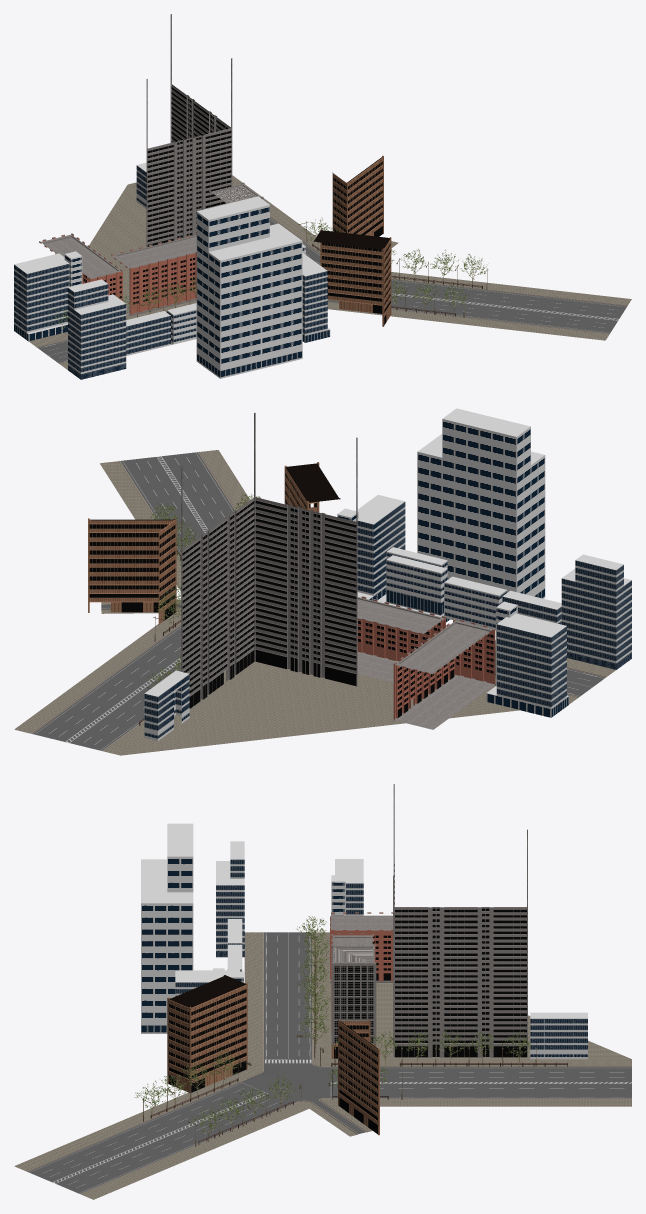
File: road.fbx
3 renders of one model, top to bottom at view 1: azimuth 30°, elevation 25°; view 2: azimuth 150°, elevation 25°; view 3: azimuth 270°, elevation 25°, orthographic. The views are drawn at different scales.
Visible parts, largest first — view 1: BF2.008, upper1, sidewalk, road, Save OBJ.004; view 2: upper1, BF2.008, sidewalk, road, Save OBJ.004; view 3: upper1, road, BF2.008, sidewalk, Save OBJ.004, 円柱.005, Cube.001.
Boxes of the visible parts, left/top/right/bottom form: BF2.008: left=14, top=162, right=330, bottom=379; upper1: left=39, top=14, right=391, bottom=326; sidewalk: left=29, top=175, right=631, bottom=369; road: left=36, top=216, right=627, bottom=363; Save OBJ.004: left=54, top=217, right=488, bottom=328; upper1: left=88, top=413, right=495, bottom=729; BF2.008: left=144, top=408, right=631, bottom=740; sidewalk: left=14, top=450, right=615, bottom=755; road: left=31, top=451, right=606, bottom=751; Save OBJ.004: left=147, top=494, right=495, bottom=685; upper1: left=167, top=784, right=527, bottom=1135; road: left=27, top=932, right=631, bottom=1194; BF2.008: left=141, top=823, right=587, bottom=1059; sidewalk: left=14, top=932, right=631, bottom=1199; Save OBJ.004: left=134, top=916, right=532, bottom=1141; 円柱.005: left=150, top=960, right=567, bottom=1144; Cube.001: left=142, top=936, right=536, bottom=1146.
Bounding box in the file's own units: 21051 × 8445 × 20547.
